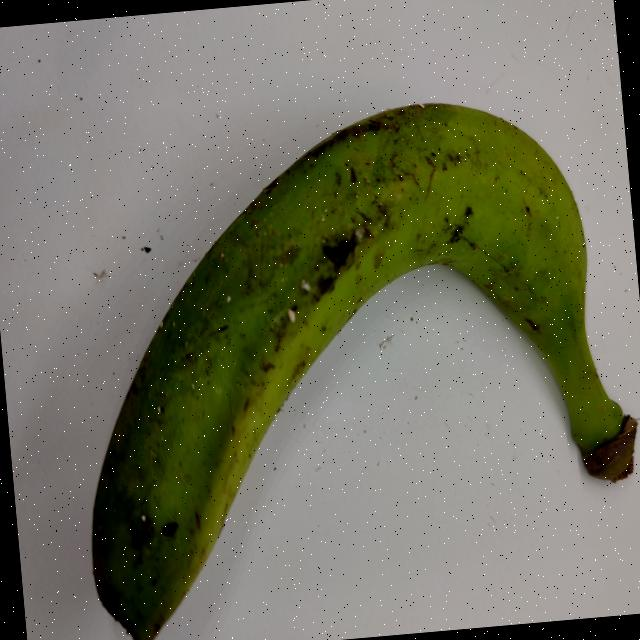Raw: (29, 50, 640, 640)
